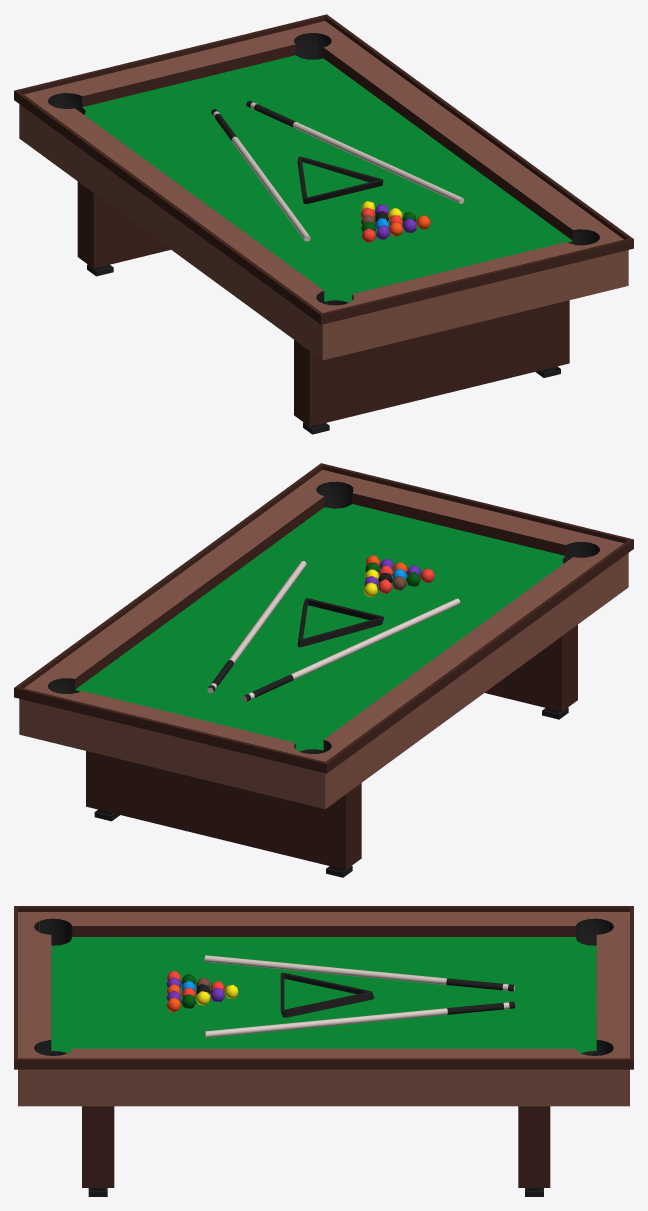
Rendered from entertainment_001.glb.
3 renders of one model, top to bottom at view 1: azimuth 30°, elevation 25°; view 2: azimuth 150°, elevation 25°; view 3: azimuth 270°, elevation 25°, orthographic.
Visible parts, largest first — view 1: entertainment_001; view 2: entertainment_001; view 3: entertainment_001.
Part boxes in pixels (left/top/right/bottom): entertainment_001: left=14, top=14, right=633, bottom=434; entertainment_001: left=14, top=463, right=633, bottom=877; entertainment_001: left=14, top=906, right=633, bottom=1196.
Bounding box in the file's own units: 1.39 × 0.6525 × 2.37.
Materials: 1 (1 with a texture image).
